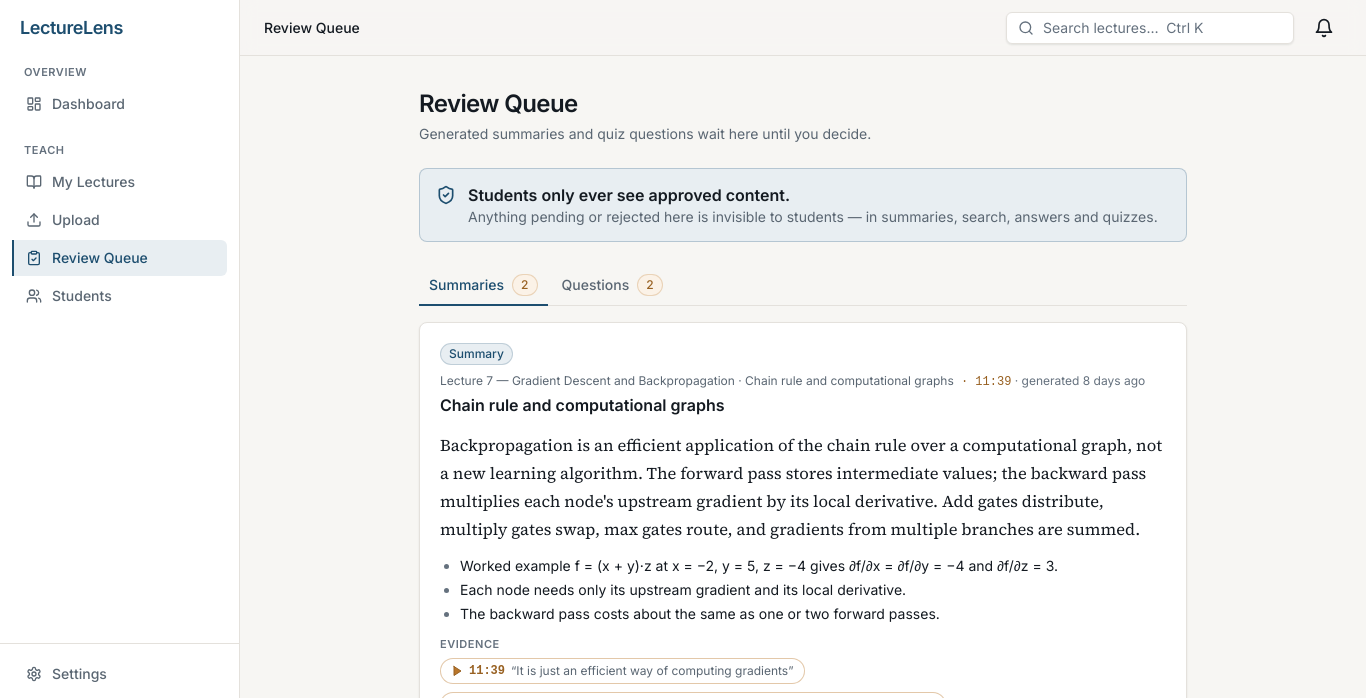
Test: review queue › shows the approval banner and pending items in two tabs
Check: the text "Students only ever see approved content." is shown, box 468,185 -> 790,205
Click the tab "Questions 2" at [612, 286], box 552,266 -> 673,306
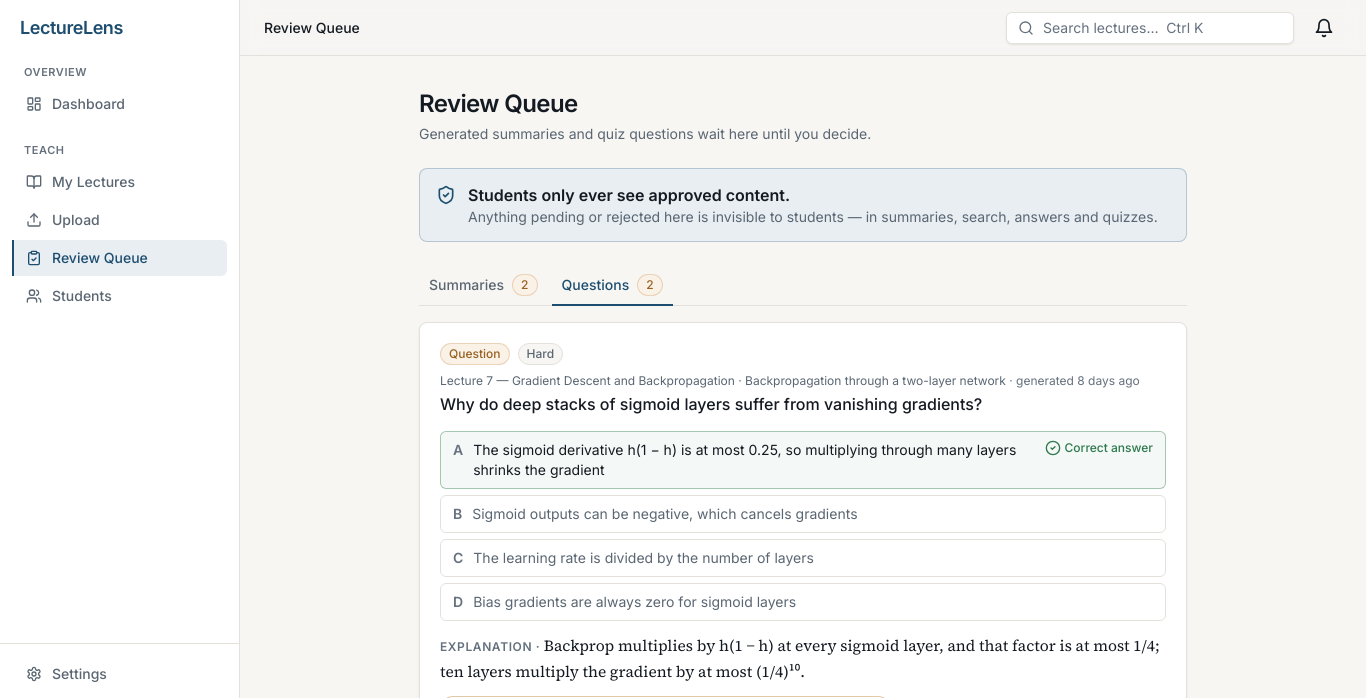
Check: the text "Correct answer" is shown 2 times
